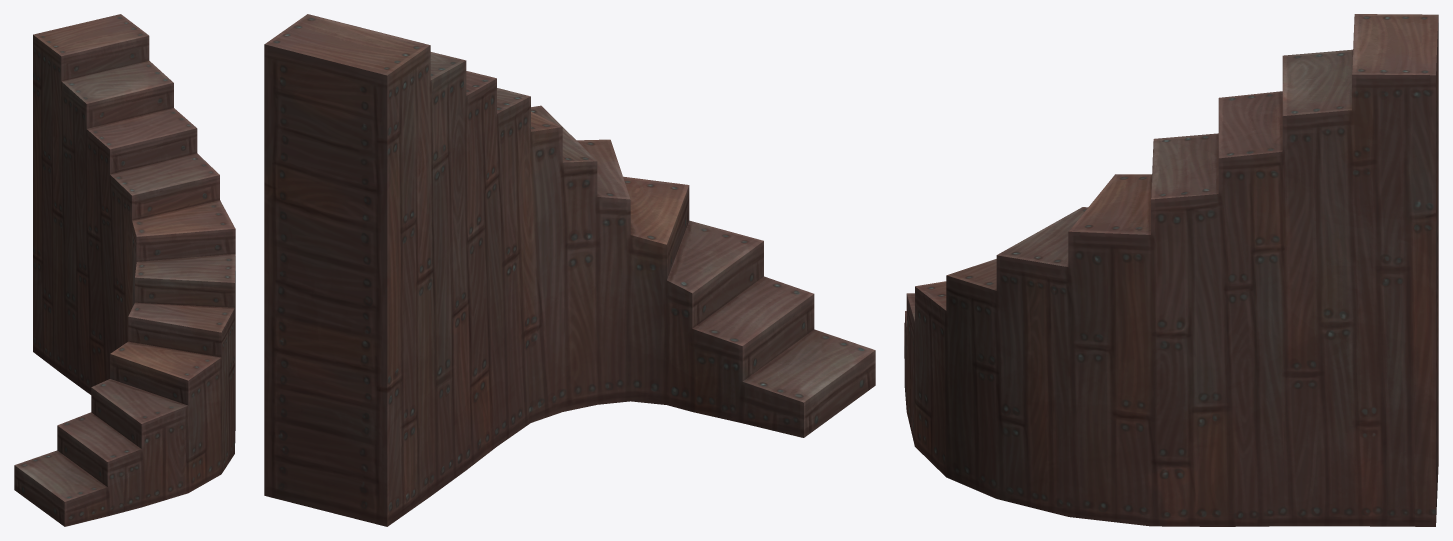
The model's file is ladder.FBX.
The picture shows the model from 3 angles, left to right: view 1: azimuth 30°, elevation 25°; view 2: azimuth 150°, elevation 25°; view 3: azimuth 270°, elevation 25°; orthographic projection. The views are drawn at different scales.
Visible parts, largest first — view 1: ladder; view 2: ladder; view 3: ladder.
Boxes of the visible parts, box(x1,y1,x2,y2) form: ladder: box(14, 14, 235, 526); ladder: box(264, 14, 875, 526); ladder: box(904, 14, 1438, 526).
Size of the model in its own units: 146 by 182 by 195.
1 material, 1 textured.
